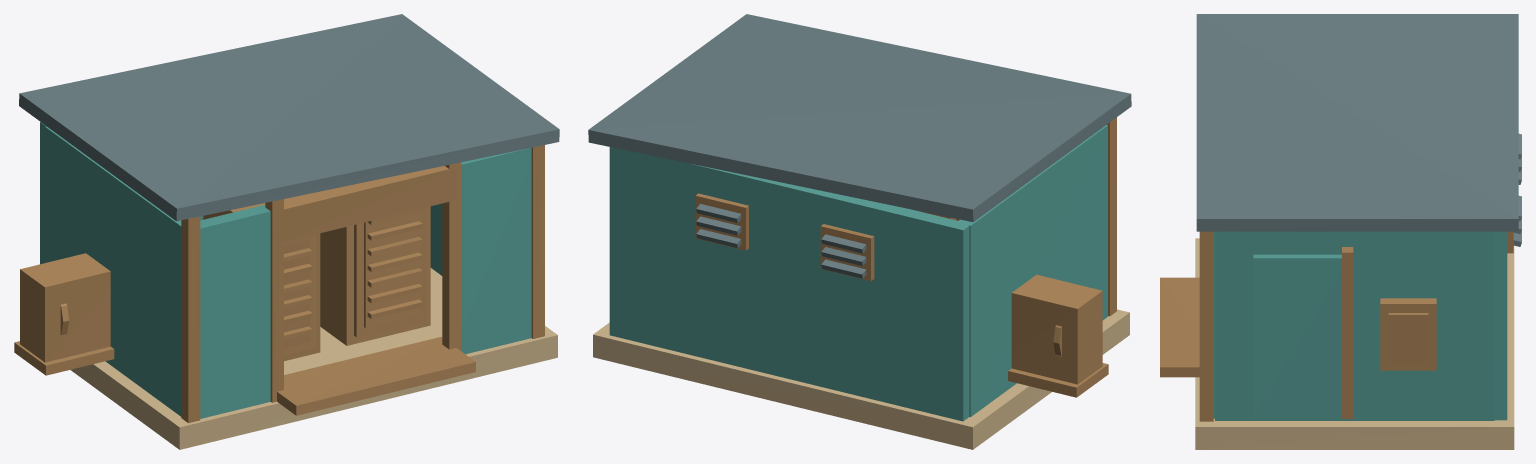
The model's file is Incubator-House.glb.
3 renders of one model, left to right at view 1: azimuth 30°, elevation 25°; view 2: azimuth 150°, elevation 25°; view 3: azimuth 270°, elevation 25°, orthographic. The views are drawn at different scales.
Parts seen in each view (by area): view 1: incubator-house-static-incubator-house-galvanized-roof-hvac, incubator-house-static-incubator-house-insulated-panel, incubator-house-static-incubator-house-dark-technical-trim, incubator-house-static-incubator-house-clean-equipment, incubator-house-static-incubator-house-stone-curb; view 2: incubator-house-static-incubator-house-insulated-panel, incubator-house-static-incubator-house-galvanized-roof-hvac, incubator-house-static-incubator-house-stone-curb, incubator-house-static-incubator-house-clean-equipment, incubator-house-static-incubator-house-dark-technical-trim; view 3: incubator-house-static-incubator-house-galvanized-roof-hvac, incubator-house-static-incubator-house-insulated-panel, incubator-house-static-incubator-house-stone-curb, incubator-house-static-incubator-house-dark-technical-trim, incubator-house-static-incubator-house-clean-equipment.
Part boxes in pixels (bbox=[...]): incubator-house-static-incubator-house-galvanized-roof-hvac: bbox=[19, 14, 559, 221]; incubator-house-static-incubator-house-insulated-panel: bbox=[40, 122, 531, 418]; incubator-house-static-incubator-house-dark-technical-trim: bbox=[14, 145, 544, 423]; incubator-house-static-incubator-house-clean-equipment: bbox=[20, 203, 475, 415]; incubator-house-static-incubator-house-stone-curb: bbox=[70, 268, 557, 449]; incubator-house-static-incubator-house-insulated-panel: bbox=[609, 125, 1107, 421]; incubator-house-static-incubator-house-galvanized-roof-hvac: bbox=[588, 14, 1131, 278]; incubator-house-static-incubator-house-stone-curb: bbox=[593, 309, 1129, 449]; incubator-house-static-incubator-house-clean-equipment: bbox=[956, 219, 1102, 384]; incubator-house-static-incubator-house-dark-technical-trim: bbox=[695, 117, 1116, 397]; incubator-house-static-incubator-house-galvanized-roof-hvac: bbox=[1196, 14, 1521, 246]; incubator-house-static-incubator-house-insulated-panel: bbox=[1213, 231, 1507, 420]; incubator-house-static-incubator-house-stone-curb: bbox=[1195, 238, 1514, 449]; incubator-house-static-incubator-house-dark-technical-trim: bbox=[1199, 231, 1513, 421]; incubator-house-static-incubator-house-clean-equipment: bbox=[1160, 277, 1436, 377].
Size of the model in its own units: 3.66 by 1.93 by 2.56.
